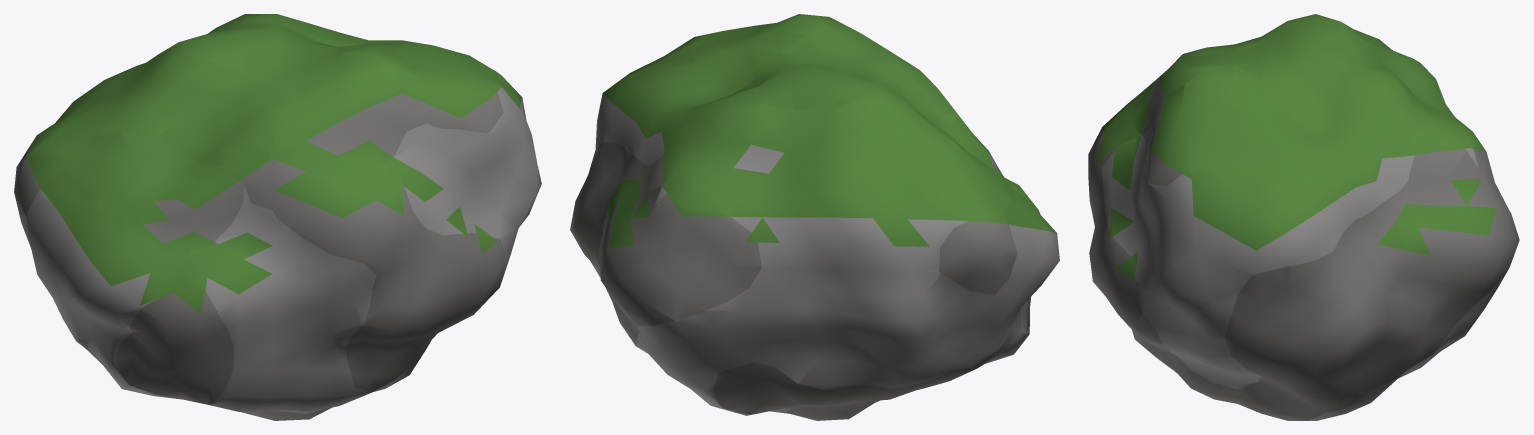
The model's file is mossy_rock_1.glb.
3 views of the same model, side by side, from view 1: azimuth 30°, elevation 25°; view 2: azimuth 150°, elevation 25°; view 3: azimuth 270°, elevation 25° (orthographic). The views are drawn at different scales.
Parts seen in each view (by area): view 1: mossy_rock_1; view 2: mossy_rock_1; view 3: mossy_rock_1.
Part boxes in pixels (left/top/right/bottom): mossy_rock_1: left=14, top=14, right=541, bottom=420; mossy_rock_1: left=570, top=14, right=1059, bottom=420; mossy_rock_1: left=1088, top=14, right=1519, bottom=420.
Size of the model in its own units: 2.08 by 1.59 by 1.77.
